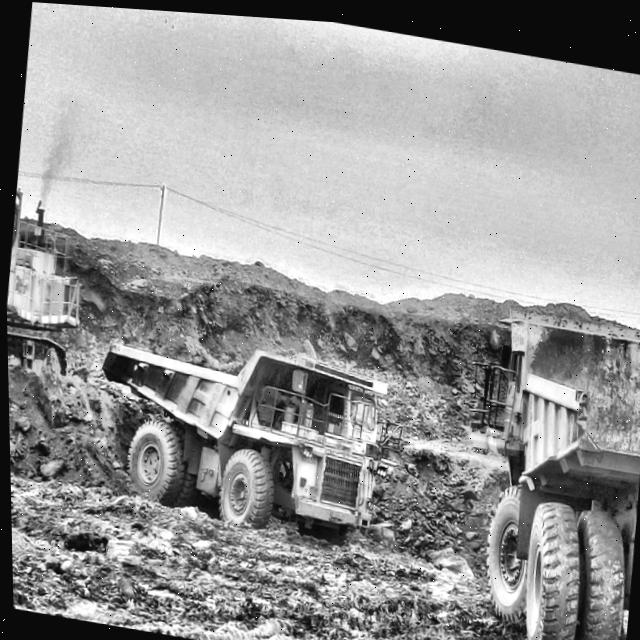dump_truck: (468, 298, 640, 640), (101, 344, 386, 532)
